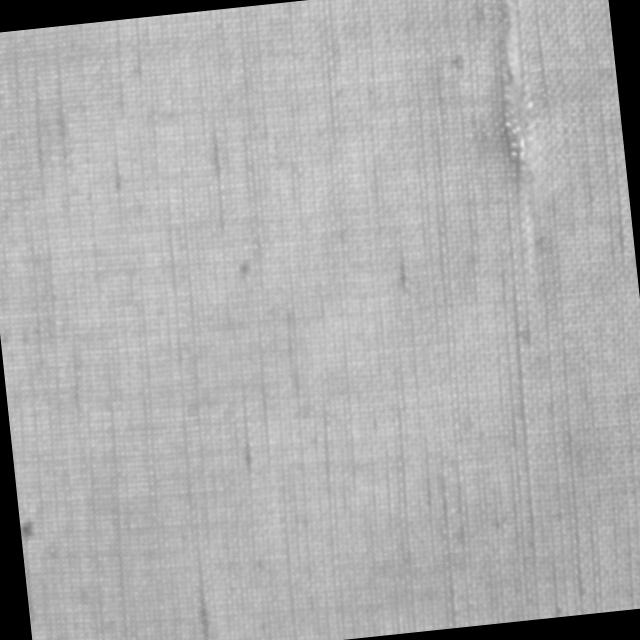thread error: (458, 0, 556, 218)
